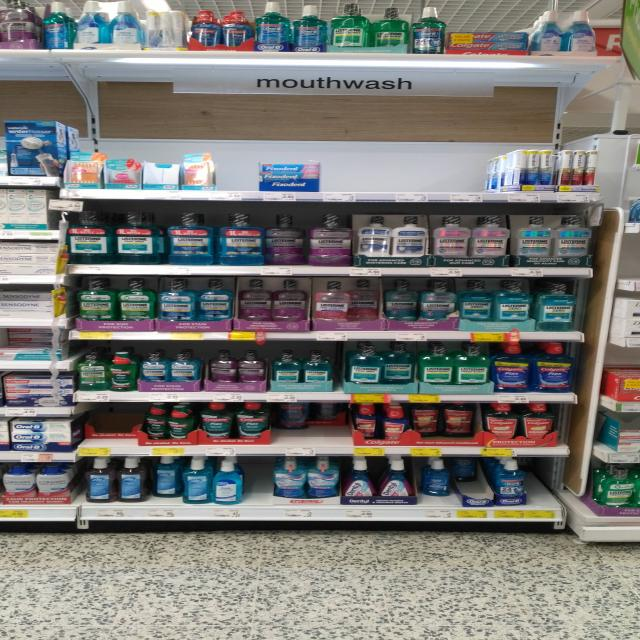unorganised: (240, 278, 307, 324), (253, 155, 325, 193), (274, 401, 349, 436), (263, 213, 304, 266), (148, 454, 185, 507), (386, 278, 420, 324), (347, 280, 380, 323), (382, 345, 414, 384), (425, 458, 451, 497), (453, 455, 480, 485)
